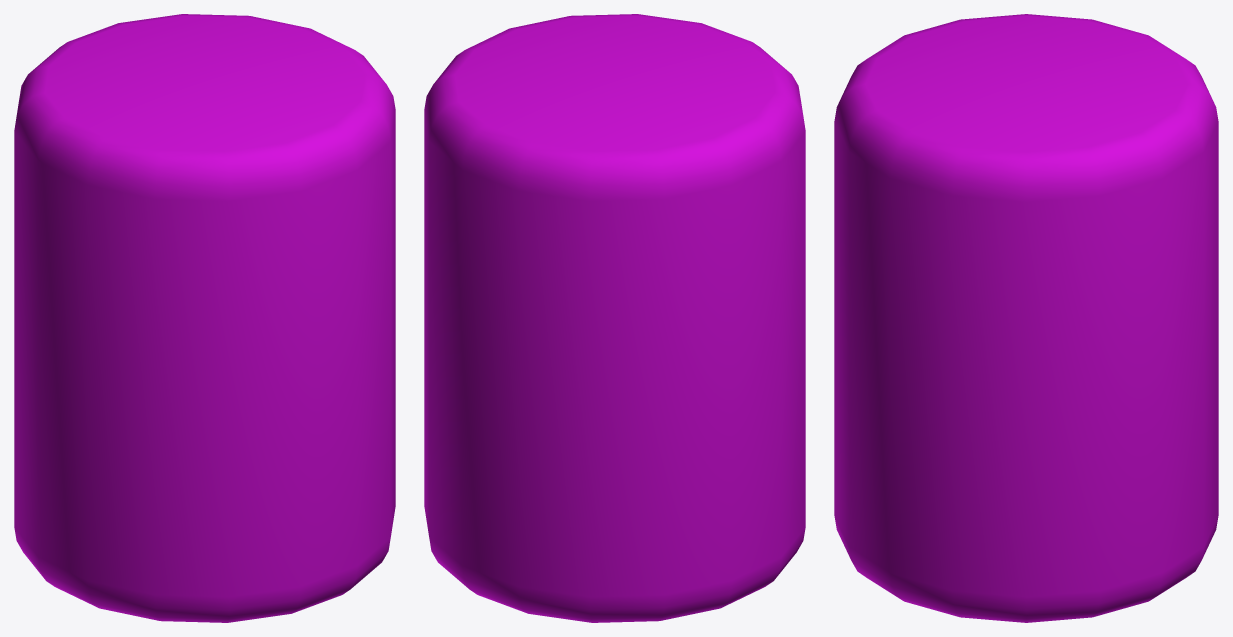
File: cylinder_Purple.fbx
3 renders of one model, left to right at view 1: azimuth 30°, elevation 25°; view 2: azimuth 150°, elevation 25°; view 3: azimuth 270°, elevation 25°, orthographic.
Visible parts, largest first — view 1: Cylinder.026; view 2: Cylinder.026; view 3: Cylinder.026.
Boxes of the visible parts, x1=… form: Cylinder.026: x1=14, y1=14, x2=395, y2=622; Cylinder.026: x1=424, y1=14, x2=805, y2=622; Cylinder.026: x1=834, y1=14, x2=1218, y2=622.
Bounding box in the file's own units: 1.28 × 1.28 × 1.72.
